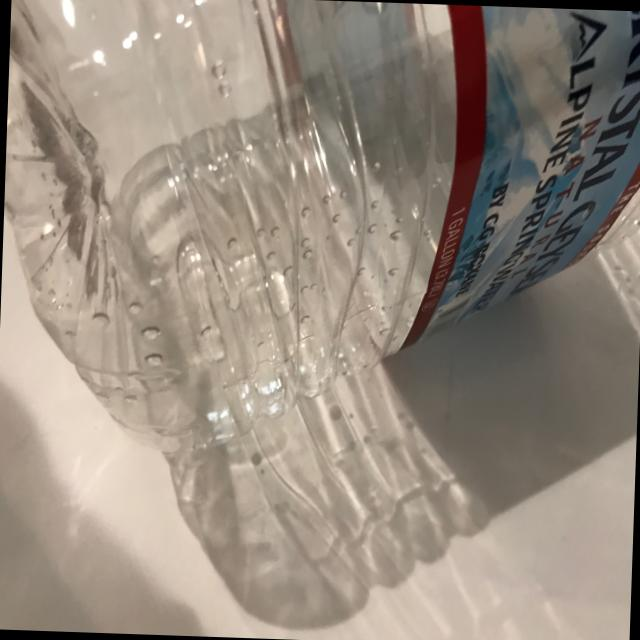plastic: (0, 0, 640, 533)
